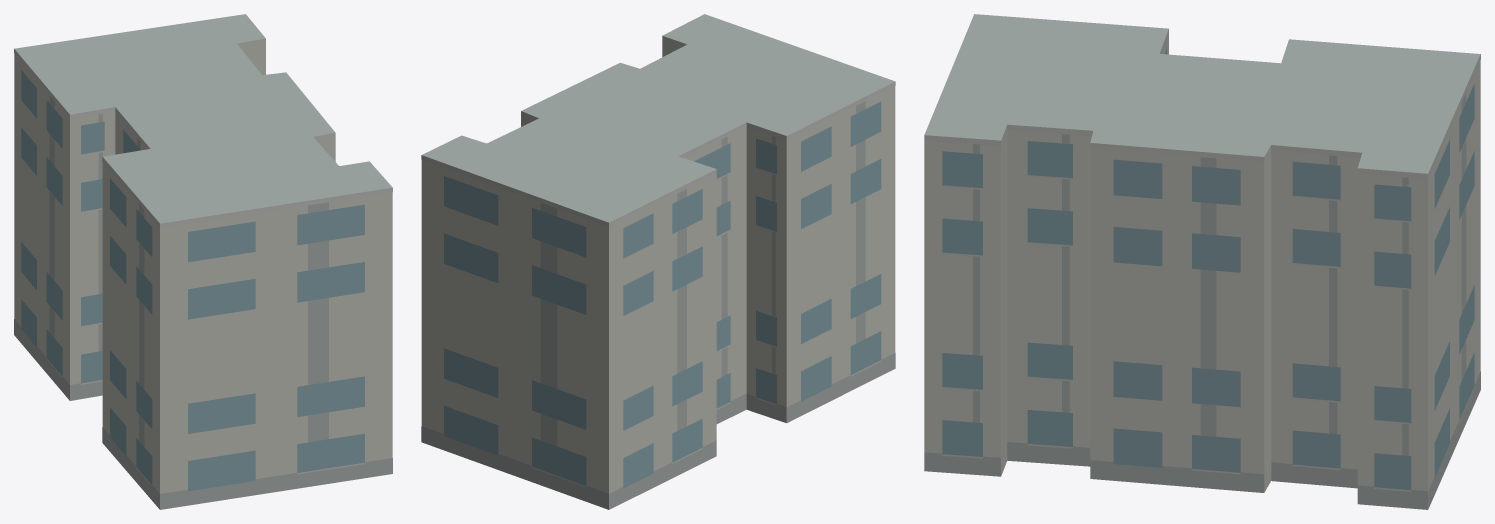
File: survey-upis-32911561.glb
3 views of the same model, side by side, from view 1: azimuth 30°, elevation 25°; view 2: azimuth 150°, elevation 25°; view 3: azimuth 270°, elevation 25° (orthographic). The views are drawn at different scales.
Visible parts, largest first — view 1: survey-upis-32911561.tmp; view 2: survey-upis-32911561.tmp; view 3: survey-upis-32911561.tmp.
Part boxes in pixels (box(x1,y1,x2,y2)): survey-upis-32911561.tmp: box(14, 14, 392, 509); survey-upis-32911561.tmp: box(421, 14, 895, 509); survey-upis-32911561.tmp: box(924, 14, 1480, 509).
Bounding box in the file's own units: 15.11 × 14.8 × 22.22.
